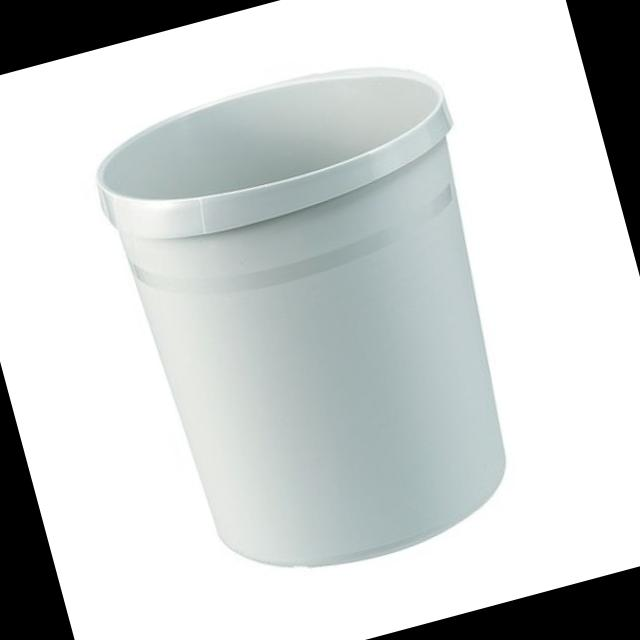dustbin: (75, 31, 565, 608)
